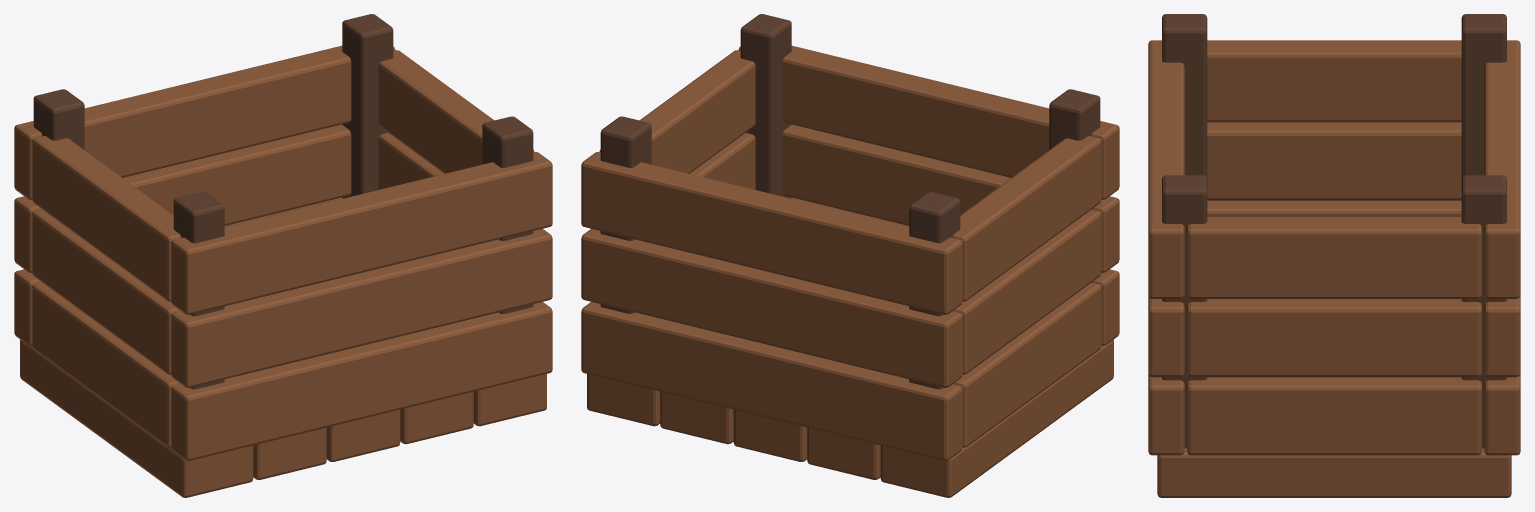
The model's file is ashwick-packing-crate.meshopt.glb.
3 renders of one model, left to right at view 1: azimuth 30°, elevation 25°; view 2: azimuth 150°, elevation 25°; view 3: azimuth 270°, elevation 25°, orthographic. The views are drawn at different scales.
Visible parts, largest first — view 1: Long boards.001, End boards.001, Floor planks.001, Battens.001; view 2: Long boards.001, End boards.001, Floor planks.001, Battens.001; view 3: End boards.001, Long boards.001, Battens.001, Floor planks.001.
Part boxes in pixels (x1,y1,x2,y2): Long boards.001: [14, 45, 552, 460]; End boards.001: [32, 50, 534, 447]; Floor planks.001: [20, 339, 546, 497]; Battens.001: [33, 14, 533, 389]; Long boards.001: [581, 45, 1119, 460]; End boards.001: [599, 50, 1101, 447]; Floor planks.001: [587, 339, 1113, 497]; Battens.001: [600, 14, 1100, 389]; End boards.001: [1187, 40, 1481, 455]; Long boards.001: [1148, 40, 1520, 455]; Battens.001: [1162, 14, 1506, 448]; Floor planks.001: [1157, 448, 1511, 497].
Size of the model in its own units: 1 by 0.735 by 0.82.
